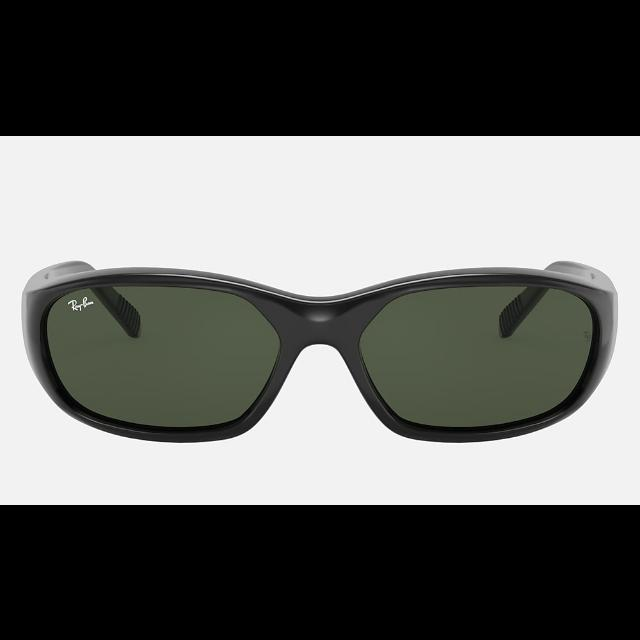Sunglasses: (22, 257, 618, 443)
